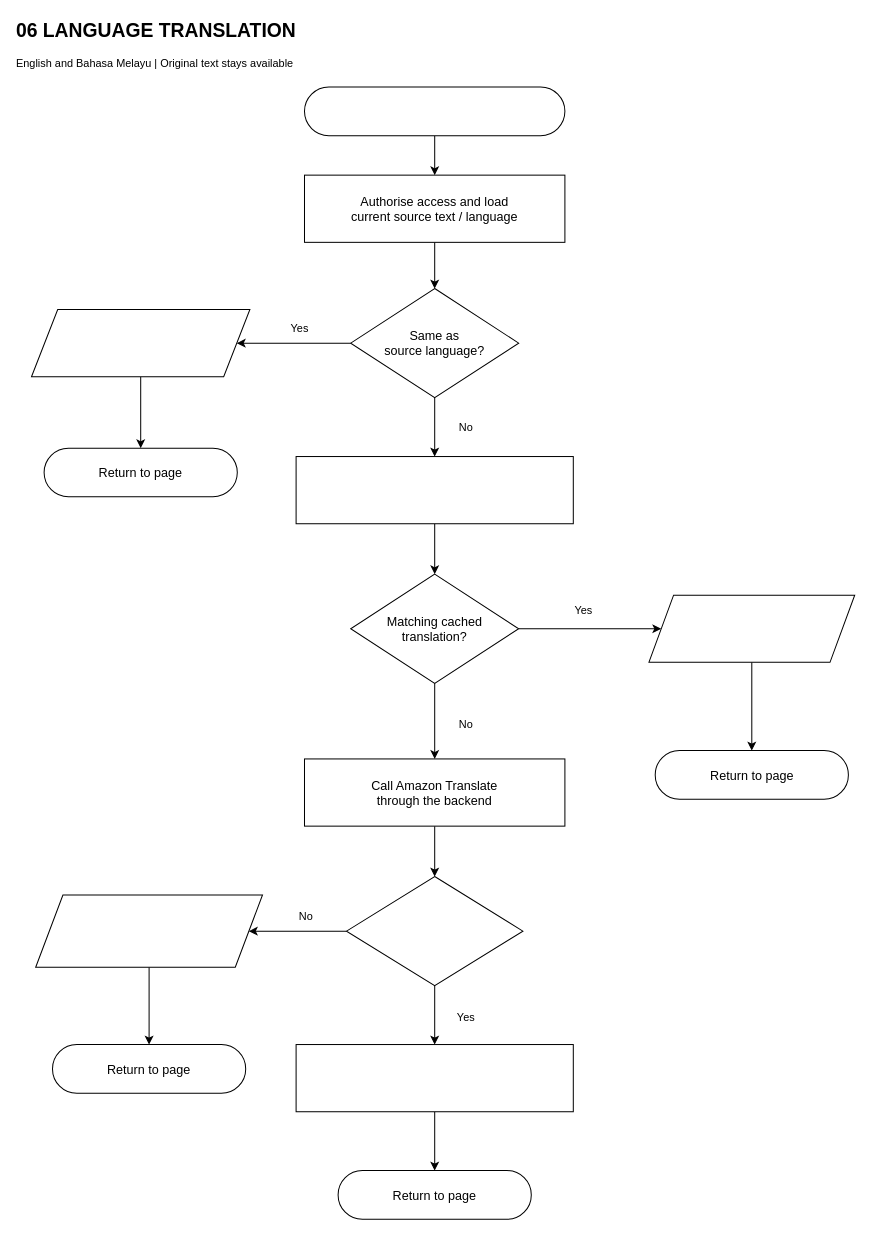
This 869x1234 diagram has some shape labels left out. Here are the shapes that lost their labels. From the top down, the box of each, then its label:
(304, 86, 565, 136): Start: select a language
(31, 309, 250, 377): Display original text
(295, 456, 573, 524): Compute source_hash from current text and source language
(648, 594, 855, 662): Display cached translation
(35, 894, 263, 967): Display original text Translation unavailable
(346, 876, 523, 986): Successful and source unchanged?
(295, 1044, 573, 1112): Save translation and source_hash Display translated text
